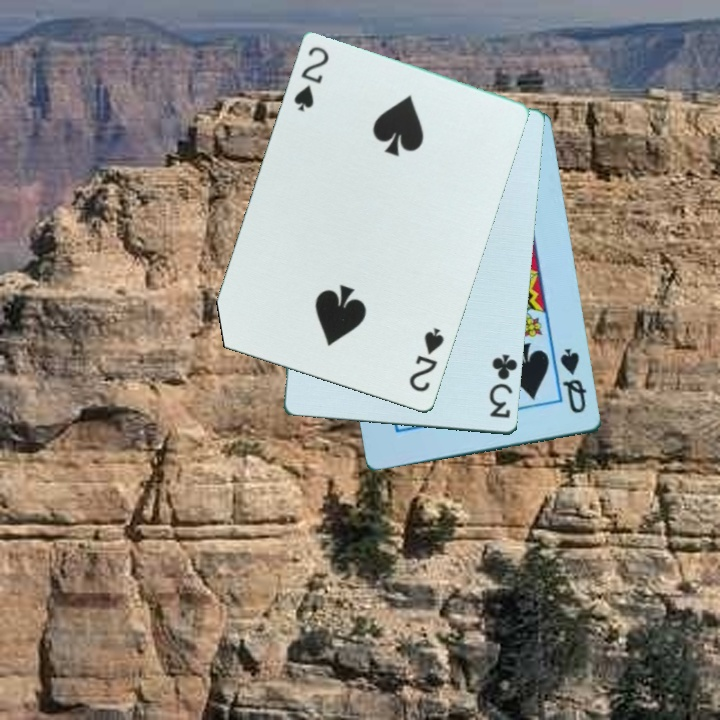2s: (290, 43, 332, 116), (405, 324, 447, 396)
3c: (486, 351, 521, 422)
Qs: (557, 347, 591, 417)
